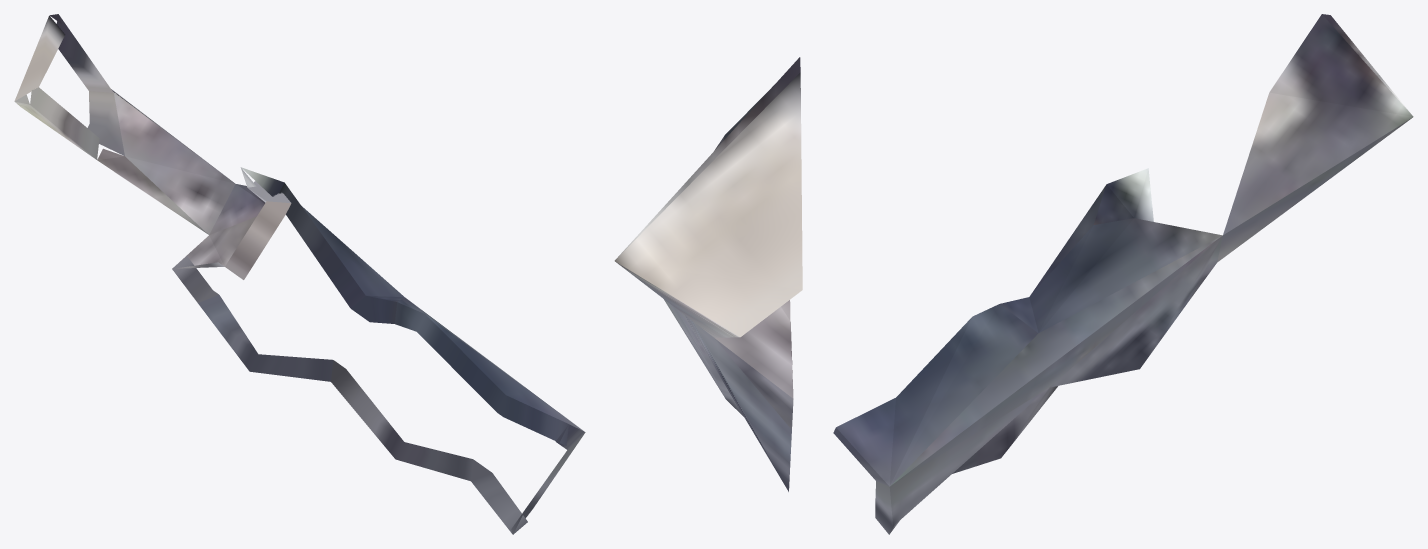
The picture shows the model from 3 angles, left to right: view 1: azimuth 30°, elevation 25°; view 2: azimuth 150°, elevation 25°; view 3: azimuth 270°, elevation 25°; orthographic projection. The views are drawn at different scales.
Size of the model in its own units: 7.36 by 8.9 by 11.44.
1 material, 1 textured.
